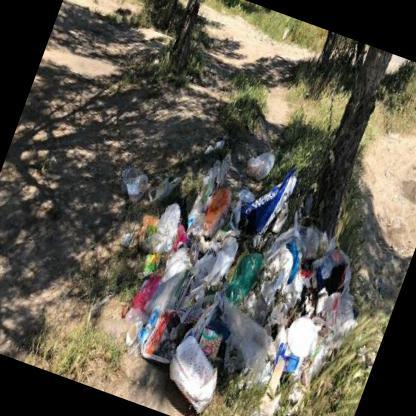Garbage: (52, 105, 399, 415), (238, 212, 325, 328), (140, 311, 230, 415), (130, 193, 206, 292), (307, 232, 366, 328), (123, 280, 181, 375), (248, 331, 308, 415), (114, 249, 152, 332), (266, 332, 304, 400), (199, 236, 242, 296), (117, 312, 156, 370), (232, 142, 280, 184), (114, 212, 148, 265), (122, 167, 146, 202), (201, 132, 224, 164)
